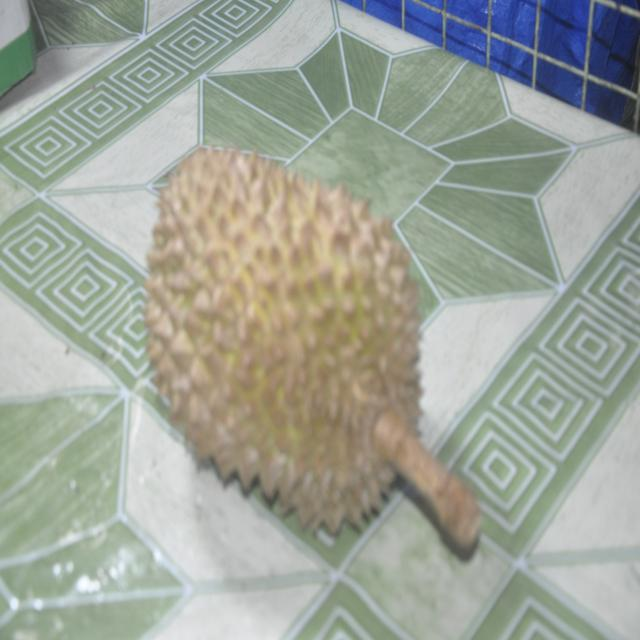mature: (144, 147, 481, 548)
